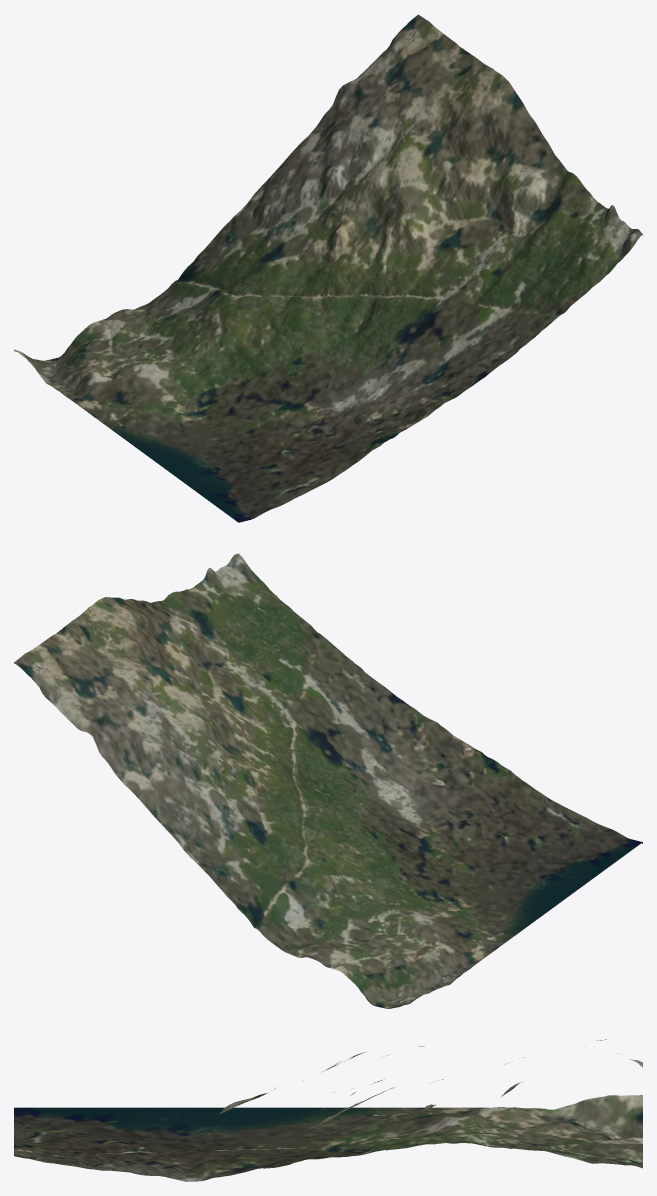
The picture shows the model from 3 angles, top to bottom: view 1: azimuth 30°, elevation 25°; view 2: azimuth 150°, elevation 25°; view 3: azimuth 270°, elevation 25°; orthographic projection. The views are drawn at different scales.
Size of the model in its own units: 250 by 152 by 241.
1 material, 1 textured.
